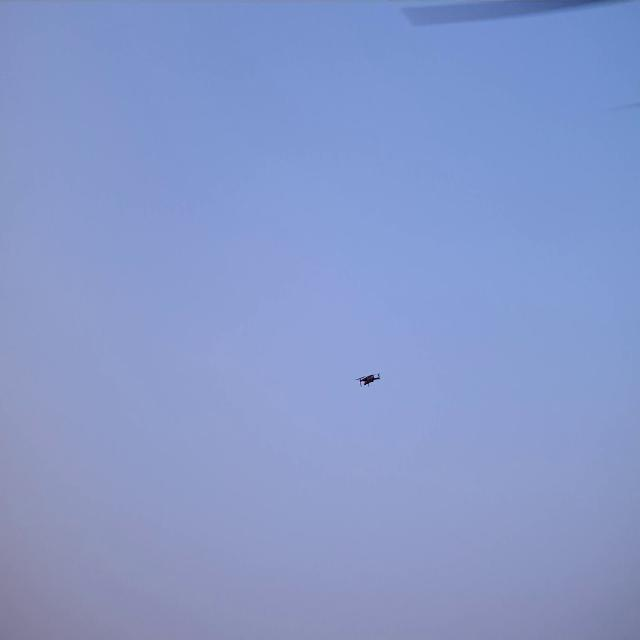UAV: (358, 374, 379, 386)
